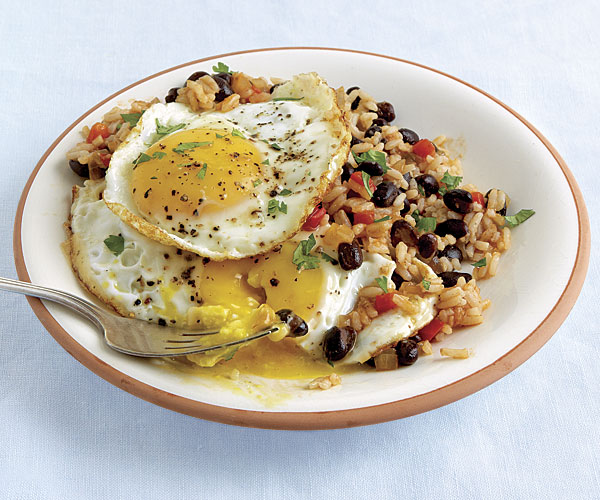fried egg: (62, 177, 377, 354), (126, 104, 332, 260)
plain rice: (71, 74, 510, 357)
